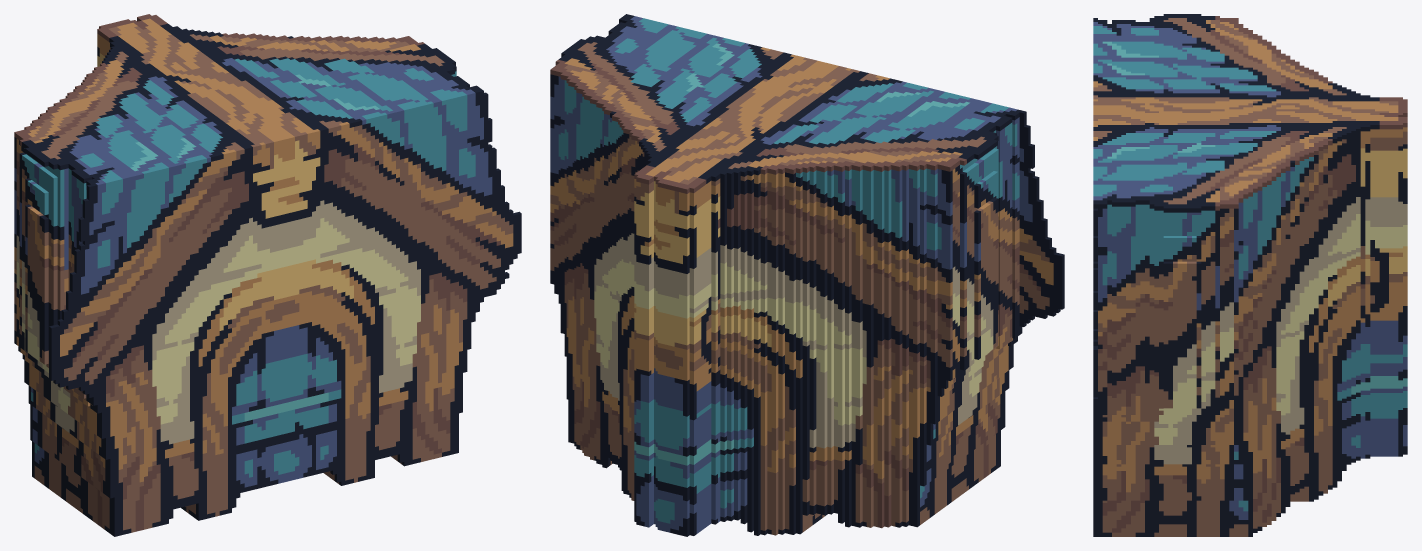
File: House1.glb
3 views of the same model, side by side, from view 1: azimuth 30°, elevation 25°; view 2: azimuth 150°, elevation 25°; view 3: azimuth 270°, elevation 25° (orthographic). The views are drawn at different scales.
Parts seen in each view (by area): view 1: q0; view 2: q0; view 3: q0.
Part boxes in pixels (<box>): q0: <box>14,14,521,536</box>; q0: <box>550,14,1064,536</box>; q0: <box>1093,14,1407,536</box>.
Size of the model in its own units: 112 by 82 by 67.
1 material, 1 textured.
